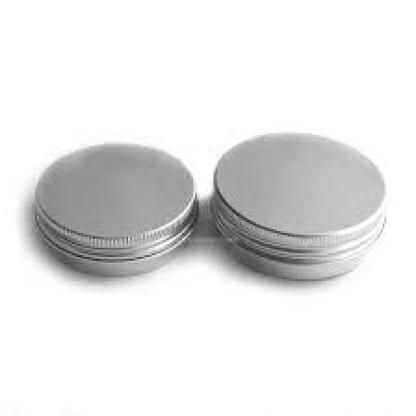METAL: (210, 131, 382, 283), (33, 142, 199, 278)
